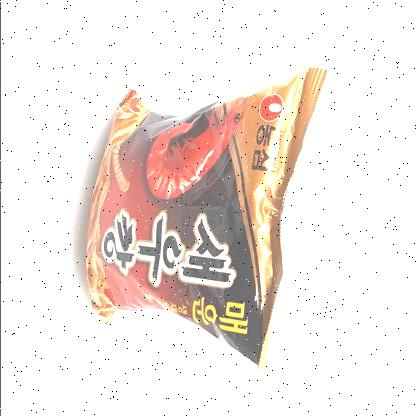Others: (60, 64, 334, 380)
